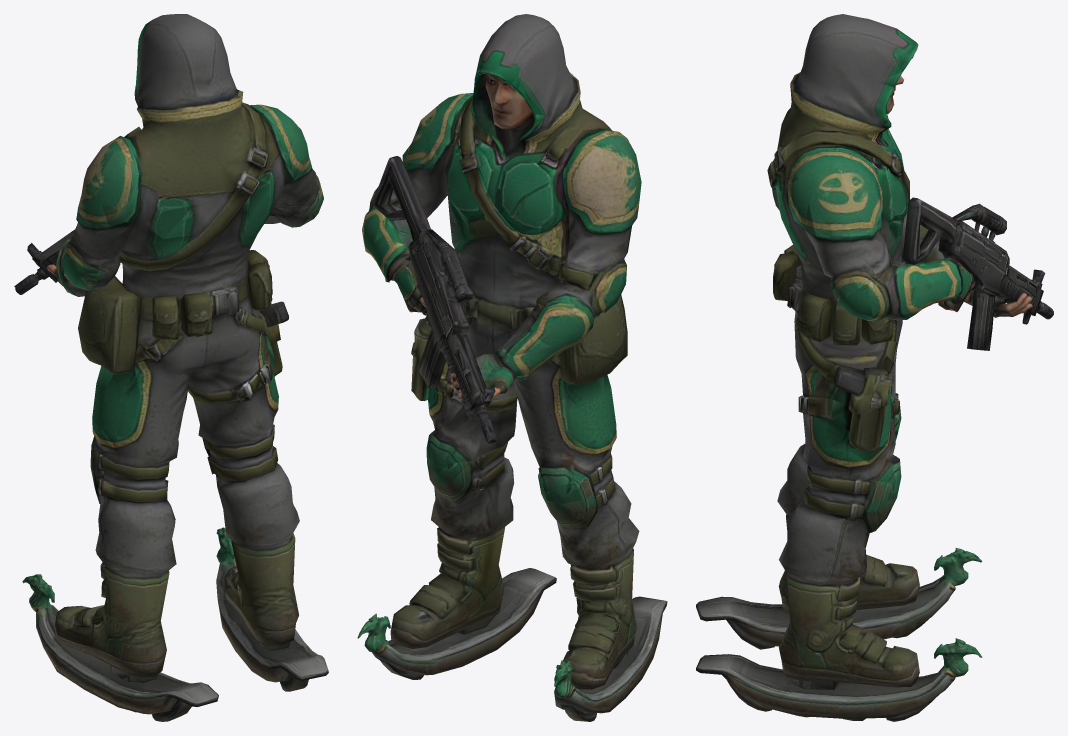
The model's file is olive_sapper.glb.
3 views of the same model, side by side, from view 1: azimuth 30°, elevation 25°; view 2: azimuth 150°, elevation 25°; view 3: azimuth 270°, elevation 25° (orthographic).
Parts seen in each view (by area): view 1: Body, Trim; view 2: Body, Trim; view 3: Body, Trim.
Part boxes in pixels (box(x1,y1,x2,y2)): Body: box(14, 14, 328, 721); Trim: box(22, 27, 322, 608); Body: box(359, 14, 667, 721); Trim: box(357, 51, 641, 698); Body: box(696, 14, 1053, 721); Trim: box(776, 29, 982, 675).
Bounding box in the file's own units: 0.7151 × 1.8 × 0.8841.
Materials: 2 (2 with a texture image).
